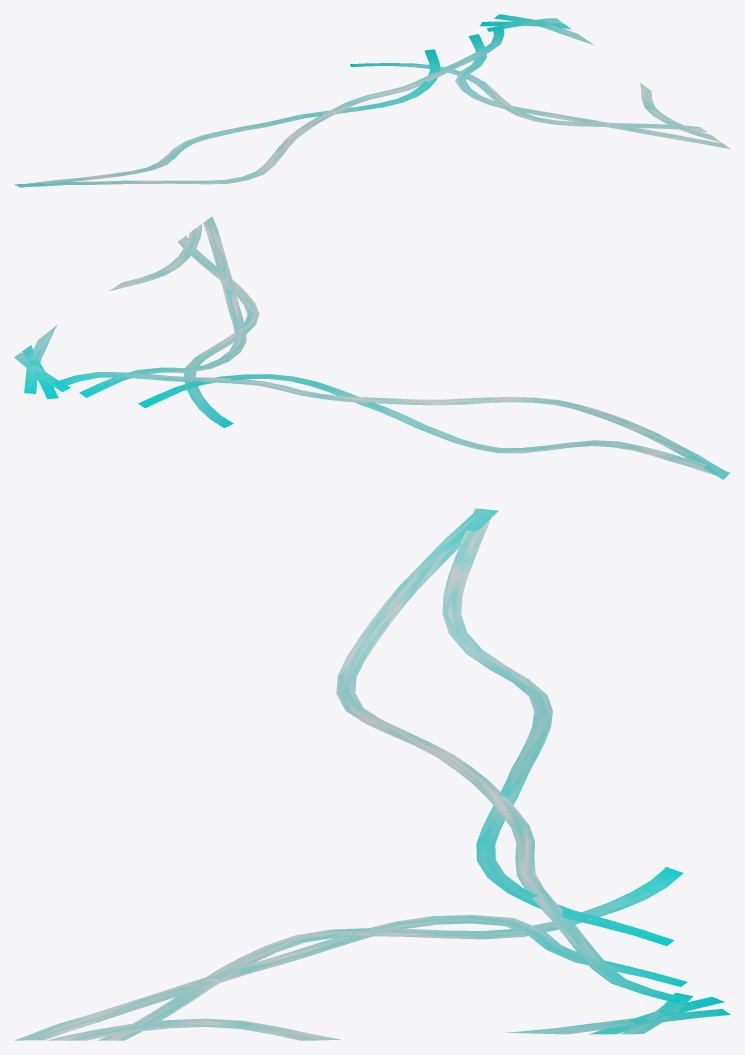
The picture shows the model from 3 angles, top to bottom: view 1: azimuth 30°, elevation 25°; view 2: azimuth 150°, elevation 25°; view 3: azimuth 270°, elevation 25°; orthographic projection. The views are drawn at different scales.
Parts seen in each view (by area): view 1: SpaceCenter_Long3_GenerateRoad_Sand_TireTracks_Width_Mesh_x1; view 2: SpaceCenter_Long3_GenerateRoad_Sand_TireTracks_Width_Mesh_x1; view 3: SpaceCenter_Long3_GenerateRoad_Sand_TireTracks_Width_Mesh_x1.
Boxes of the visible parts, x1=… form: SpaceCenter_Long3_GenerateRoad_Sand_TireTracks_Width_Mesh_x1: x1=14, y1=14, x2=730, y2=187; SpaceCenter_Long3_GenerateRoad_Sand_TireTracks_Width_Mesh_x1: x1=14, y1=216, x2=730, y2=479; SpaceCenter_Long3_GenerateRoad_Sand_TireTracks_Width_Mesh_x1: x1=14, y1=508, x2=730, y2=1040.
Bounding box in the file's own units: 1359 × 2304 × 57.92.
